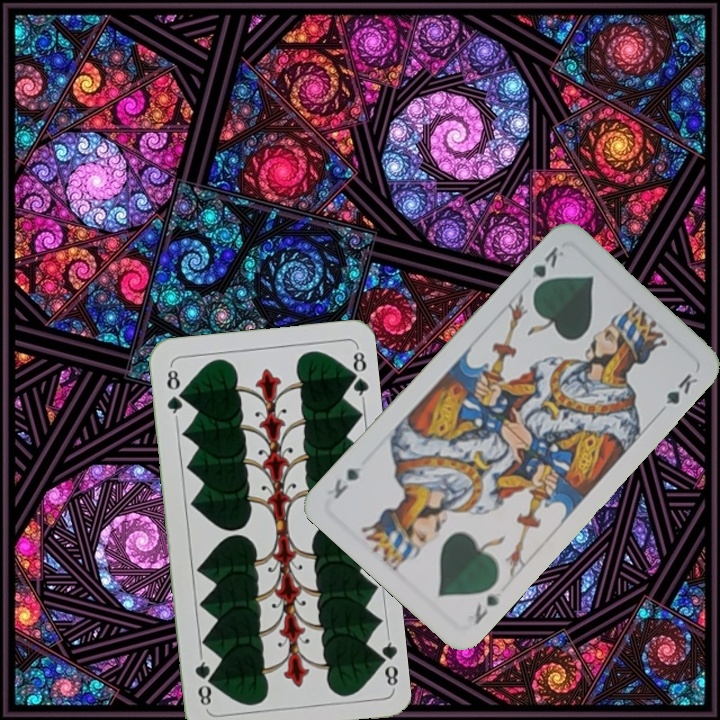G8: (371, 632, 401, 691), (162, 362, 186, 421)
GK: (527, 242, 567, 295), (470, 589, 503, 628)
